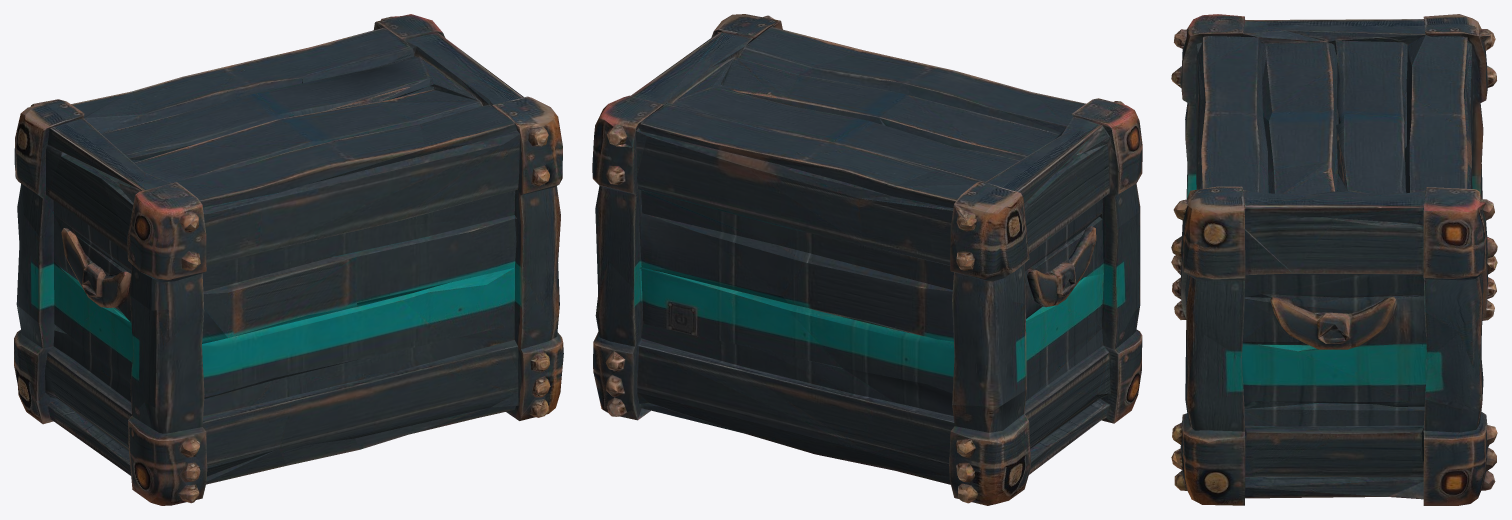
File: sci-fi-crate.glb
The picture shows the model from 3 angles, left to right: view 1: azimuth 30°, elevation 25°; view 2: azimuth 150°, elevation 25°; view 3: azimuth 270°, elevation 25°; orthographic projection.
Bounding box in the file's own units: 0.8792 × 0.6 × 0.5956.
1 material, 1 textured.
